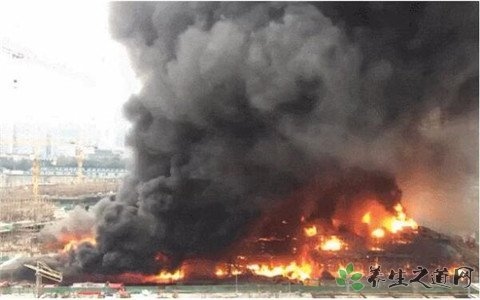fire: (245, 217, 428, 278)
smoke: (119, 4, 468, 185)
